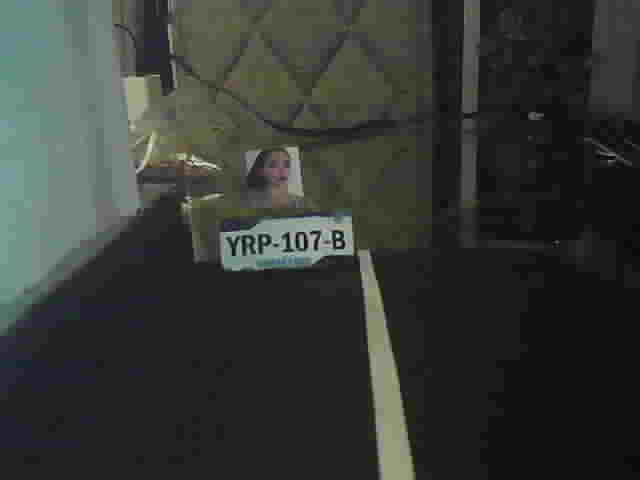PLACA: (215, 210, 357, 276)
ROSTRO: (246, 147, 304, 207)
